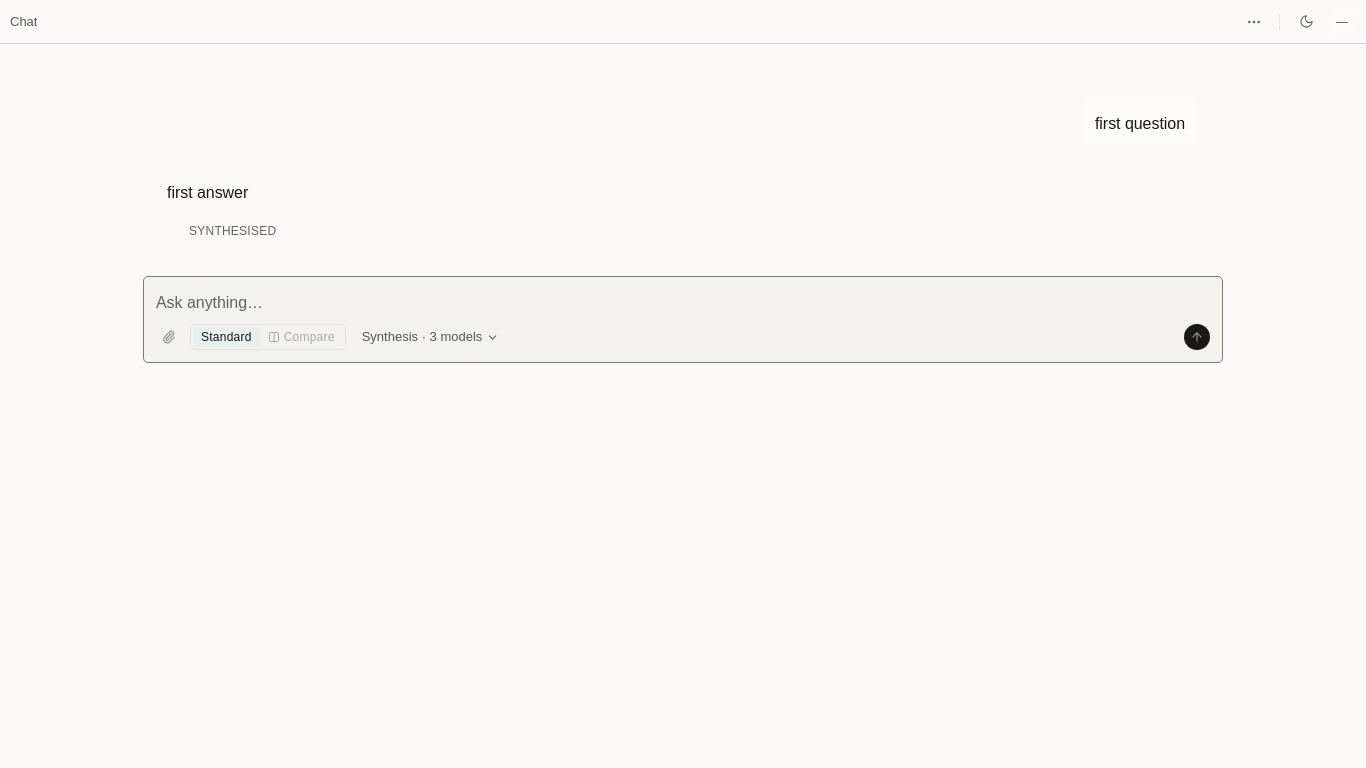
Test: one question → one answer › keeps a failed model out of the transcript and still shows one answer
Type "second question" into the text box labelled "Ask anything…" at (683, 302), box [156,289,1210,316]
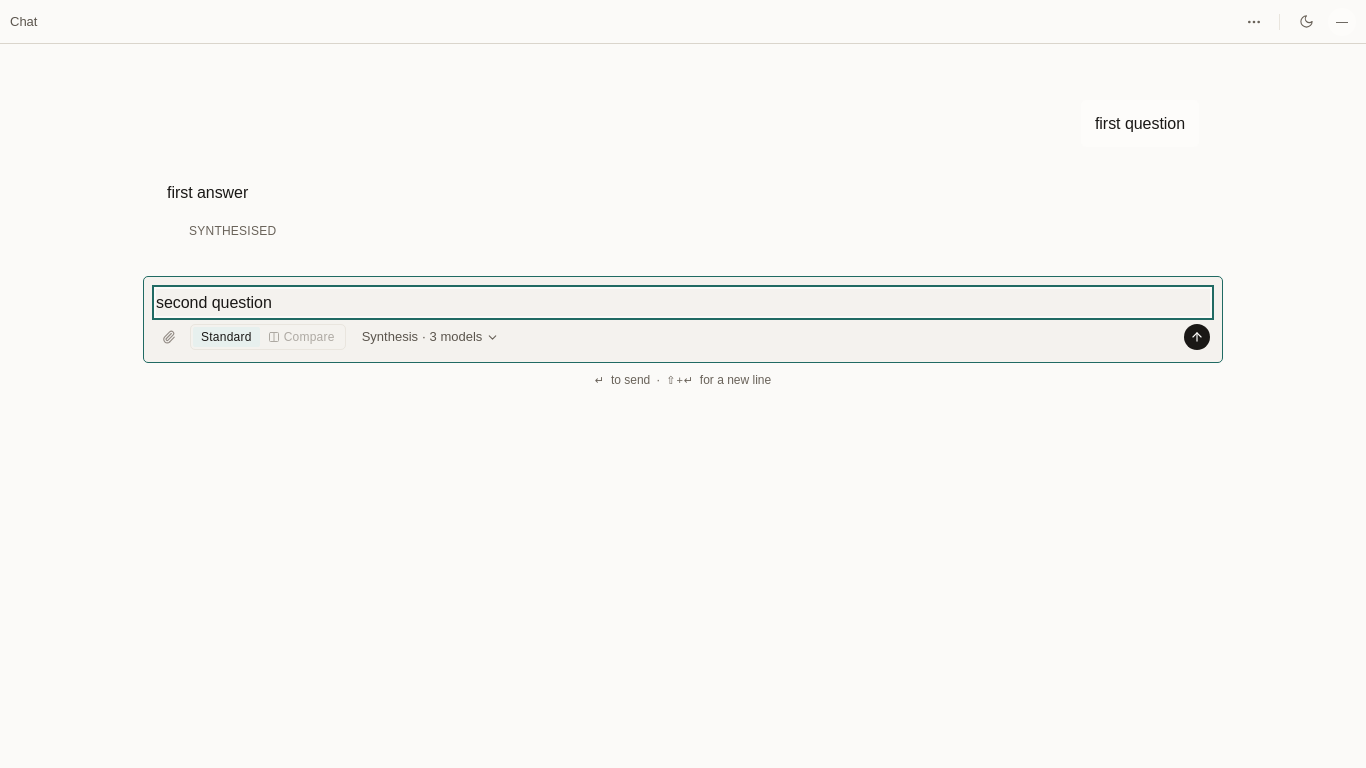
Press Enter
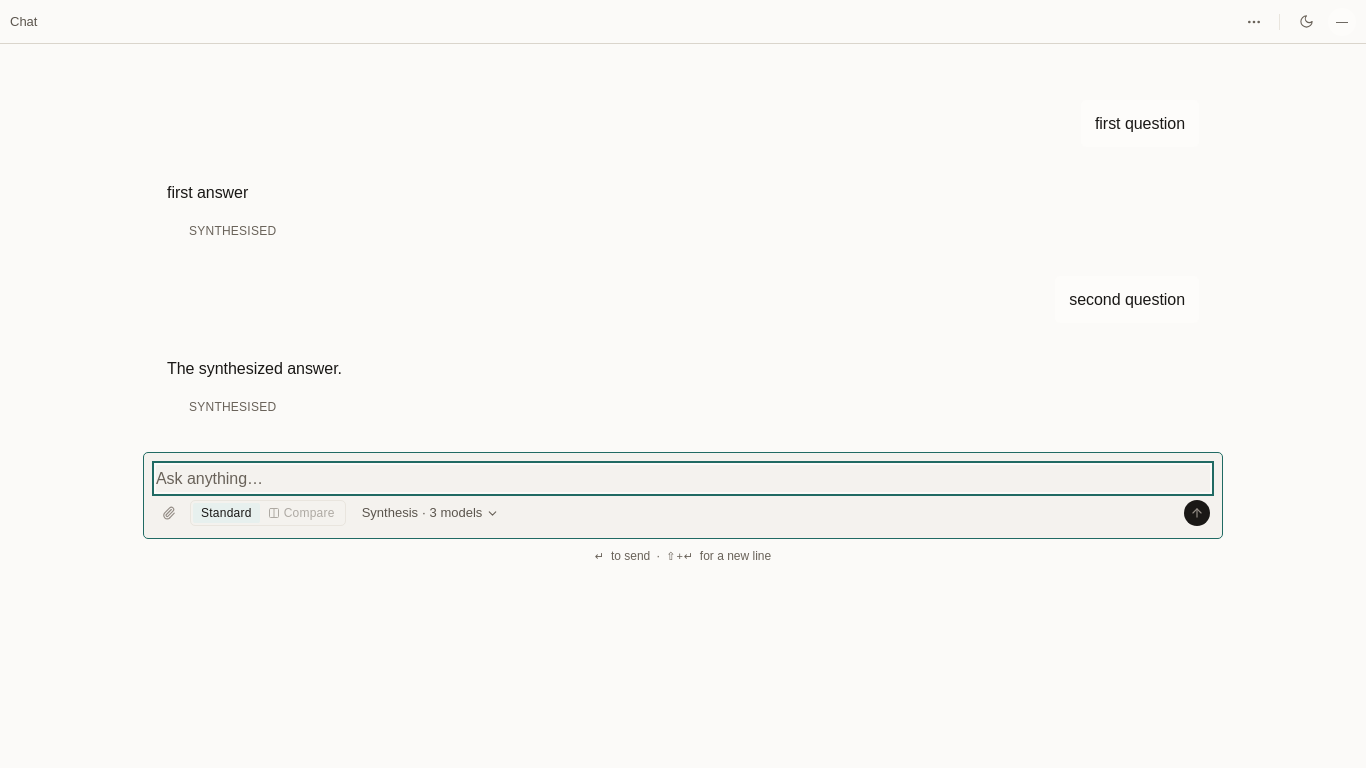
expect the text "The synthesized answer." is shown once: met, box [167,360,342,377]
expect the text "second question" is shown once: met, box [1055,276,1199,323]
